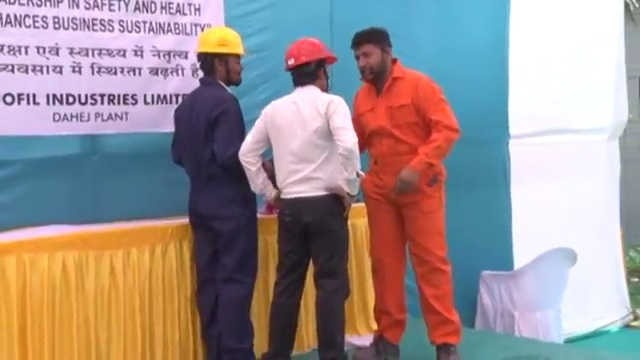helmet: (282, 35, 337, 69), (195, 25, 247, 57)
helmet_off: (351, 27, 393, 82)
helmet_on: (194, 24, 247, 88), (281, 34, 336, 93)
person: (237, 35, 359, 359), (350, 29, 466, 360), (170, 24, 257, 360)
